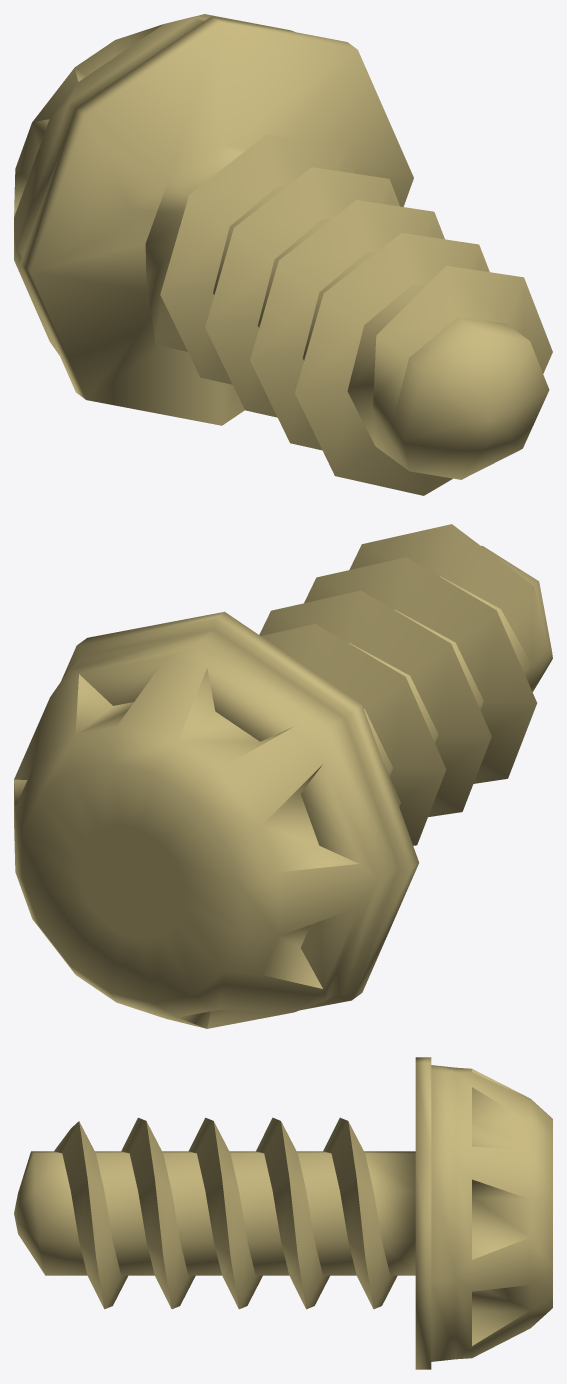
File: screw.fbx
The picture shows the model from 3 angles, top to bottom: view 1: azimuth 30°, elevation 25°; view 2: azimuth 150°, elevation 25°; view 3: azimuth 270°, elevation 25°; orthographic projection. The views are drawn at different scales.
Parts seen in each view (by area): view 1: screw002; view 2: screw002; view 3: screw002.
Part boxes in pixels (left/top/right/bottom): screw002: left=14, top=14, right=552, bottom=495; screw002: left=14, top=524, right=552, bottom=1028; screw002: left=14, top=1057, right=552, bottom=1369.
Size of the model in its own units: 45.49 by 45.49 by 73.7.
